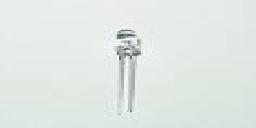LED: (114, 29, 141, 119)
